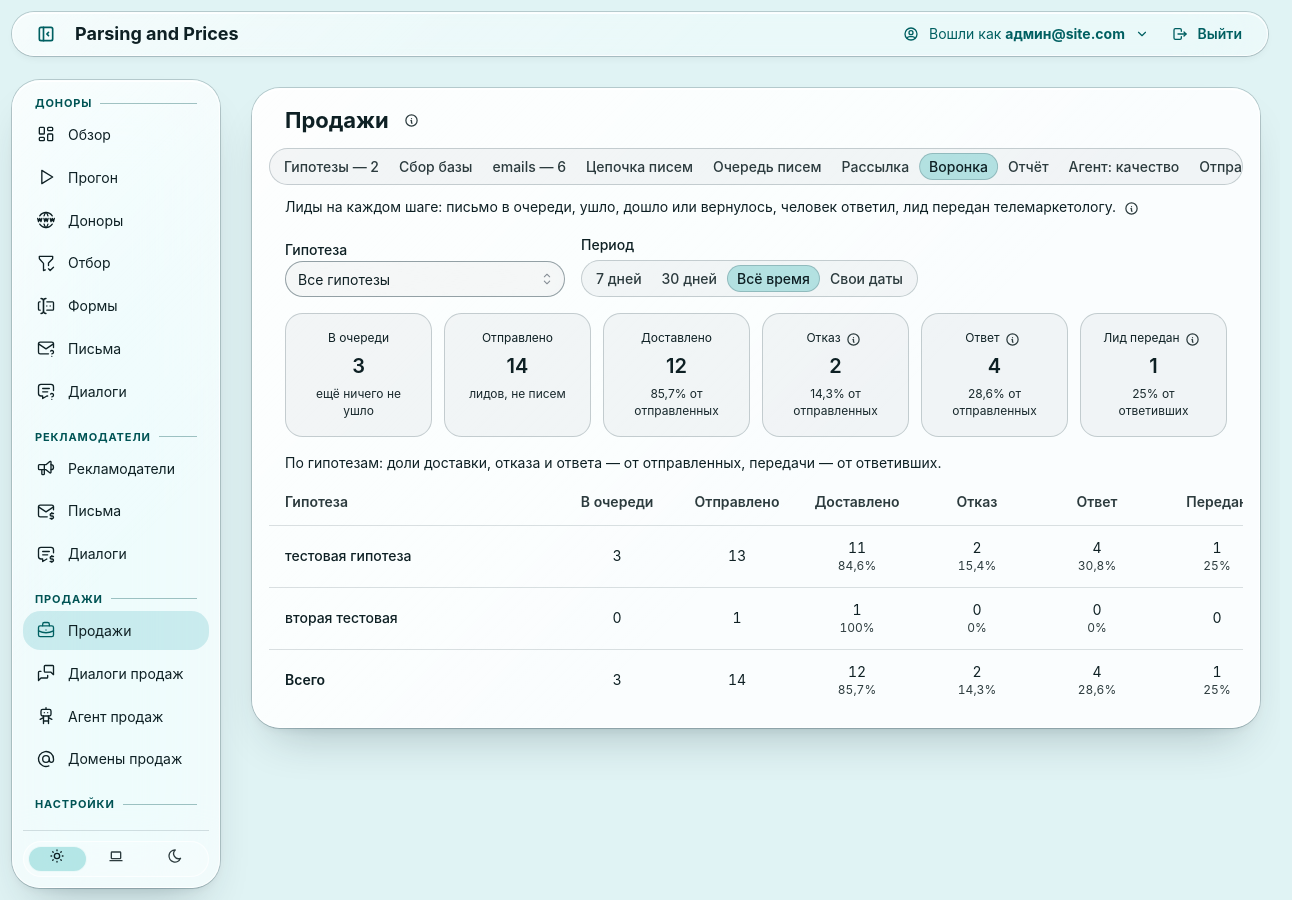
воронка продаж › за период ничего — сказано словами, а не одними нулями
The image size is (1292, 900).
Expected: the text "Отправлено" is shown, x1=482 y1=330 x2=553 y2=347
Click the 1st radio button labelled "30 дней": (689, 278) x1=662 y1=270 x2=717 y2=287
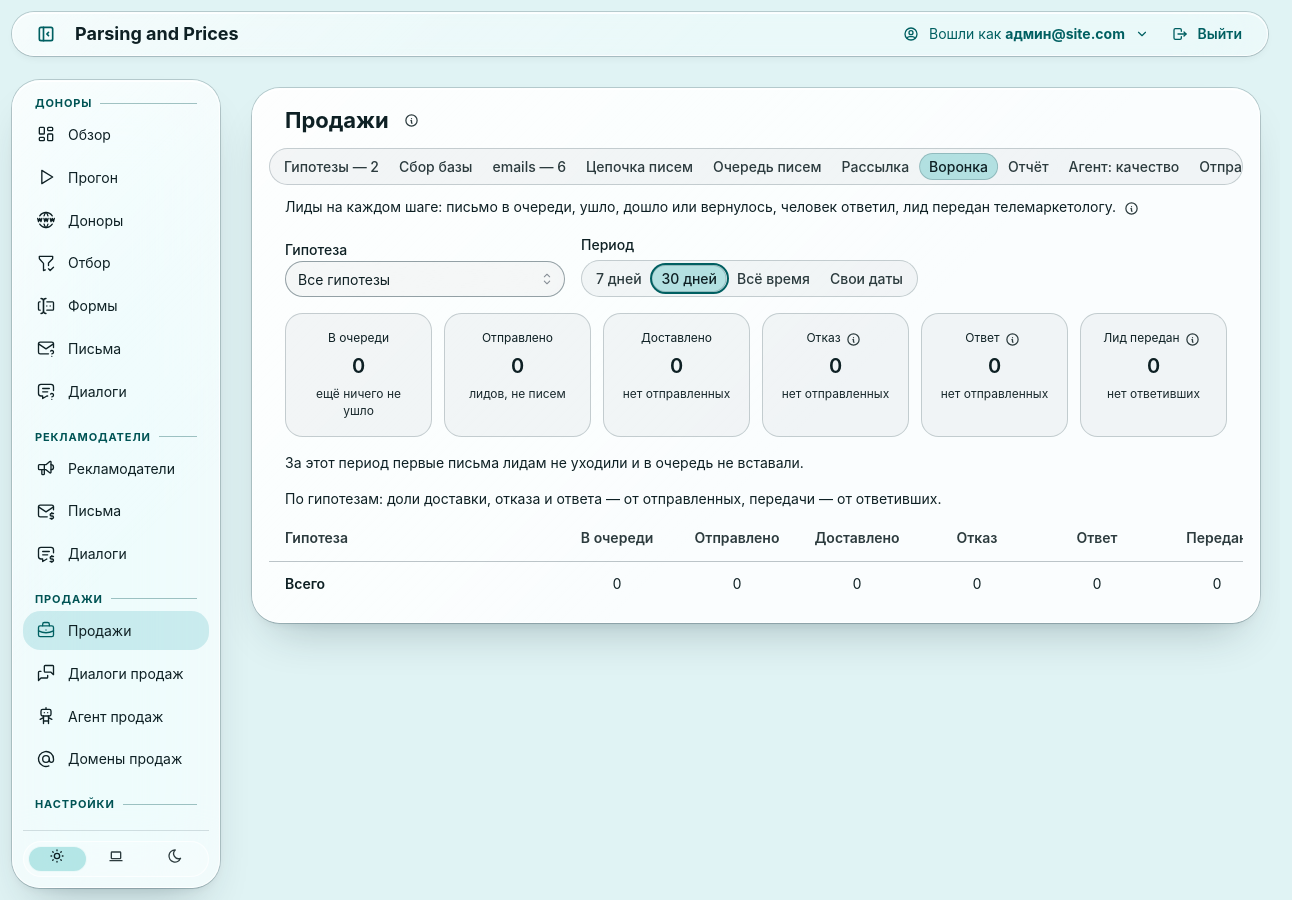
Expected: the text "За этот период первые письма лидам не уходили и в очередь не вставали." is shown, x1=285 y1=454 x2=804 y2=471
